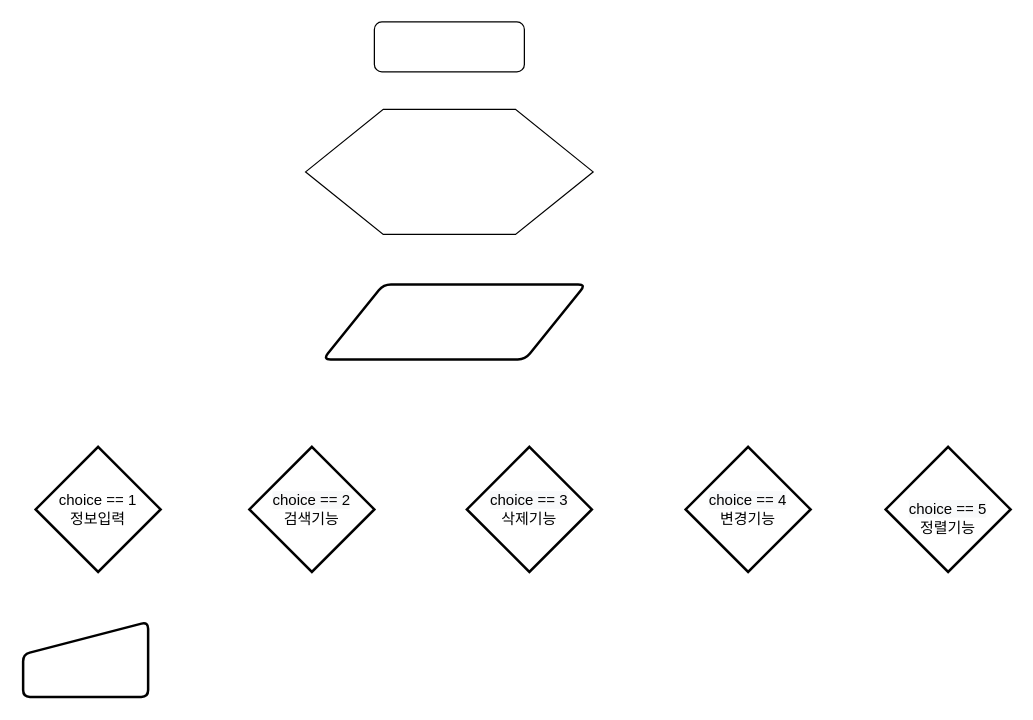
Some shapes in this 1033 by 720 pixel diagram are drawn without their labels. Each missing label, with the box of its shape:
start: (373, 21, 524, 72)
구조체 People 생성 (int PhoneNumber, char Name[10]): (304, 108, 593, 234)
선택지 번호 입력: (1~5) (int choice): (321, 282, 586, 360)
